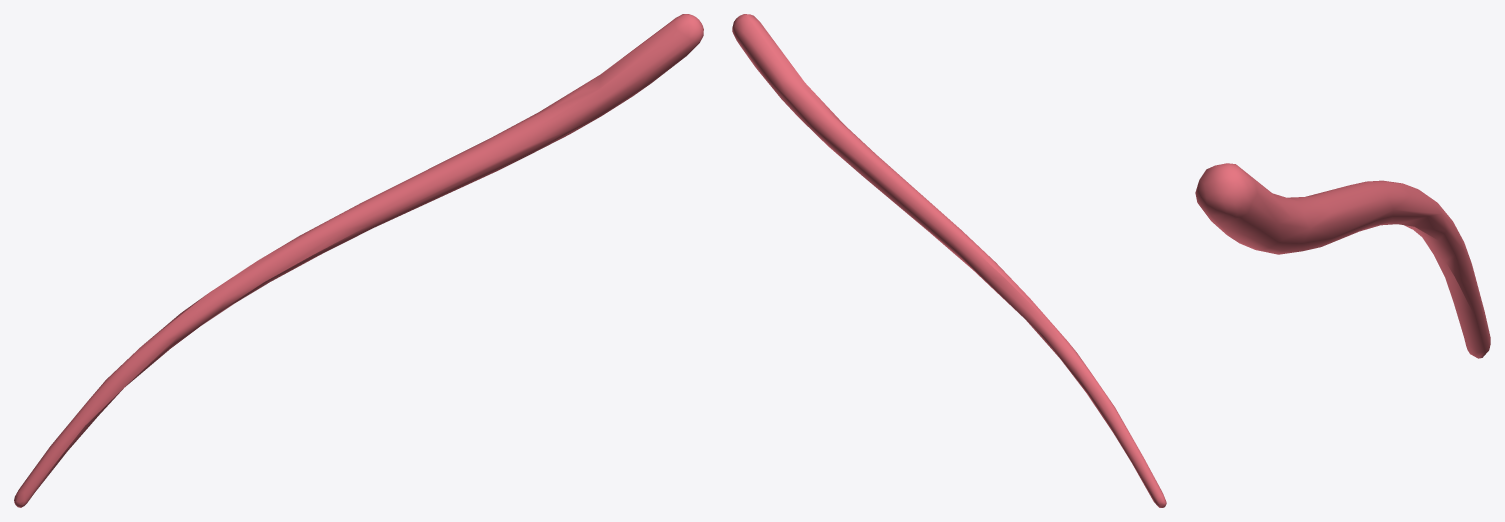
Rendered from fma9425_fj3059.glb.
3 views of the same model, side by side, from view 1: azimuth 30°, elevation 25°; view 2: azimuth 150°, elevation 25°; view 3: azimuth 270°, elevation 25° (orthographic). The views are drawn at different scales.
Parts seen in each view (by area): view 1: FMA9425_FJ3059; view 2: FMA9425_FJ3059; view 3: FMA9425_FJ3059.
Boxes of the visible parts, x1=… form: FMA9425_FJ3059: x1=14, y1=14, x2=703, y2=507; FMA9425_FJ3059: x1=732, y1=14, x2=1166, y2=507; FMA9425_FJ3059: x1=1195, y1=163, x2=1490, y2=358.
Bounding box in the file's own units: 0.0858 × 0.0546 × 0.0222.
